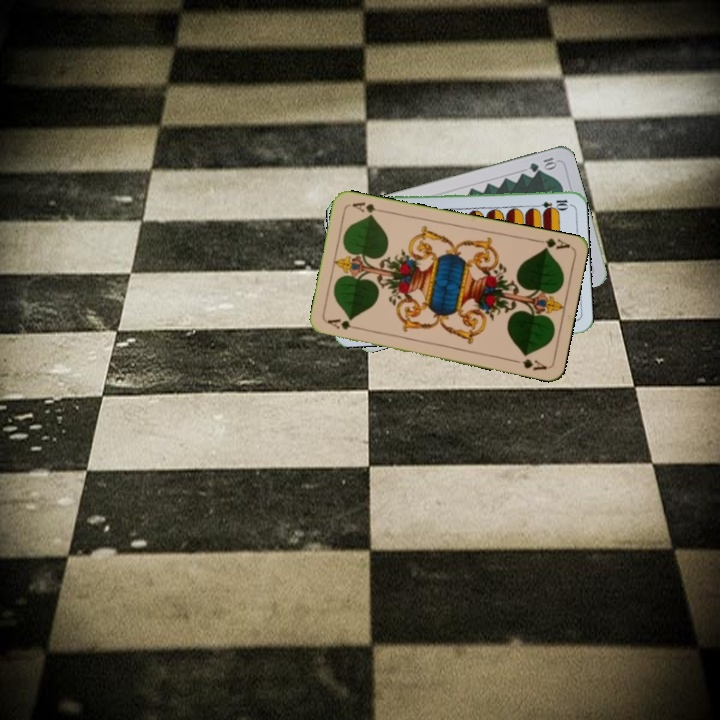E10: (530, 196, 571, 211)
G10: (525, 153, 559, 174)
GA: (532, 234, 572, 253), (323, 315, 364, 333)
